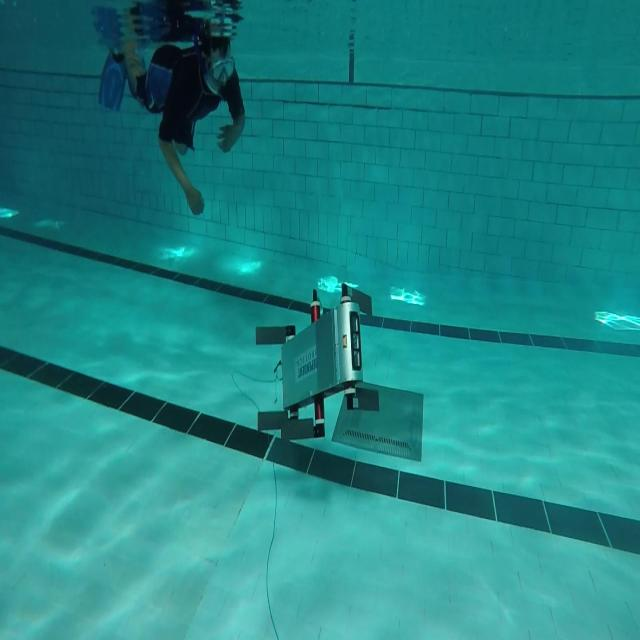human: (97, 12, 245, 217)
